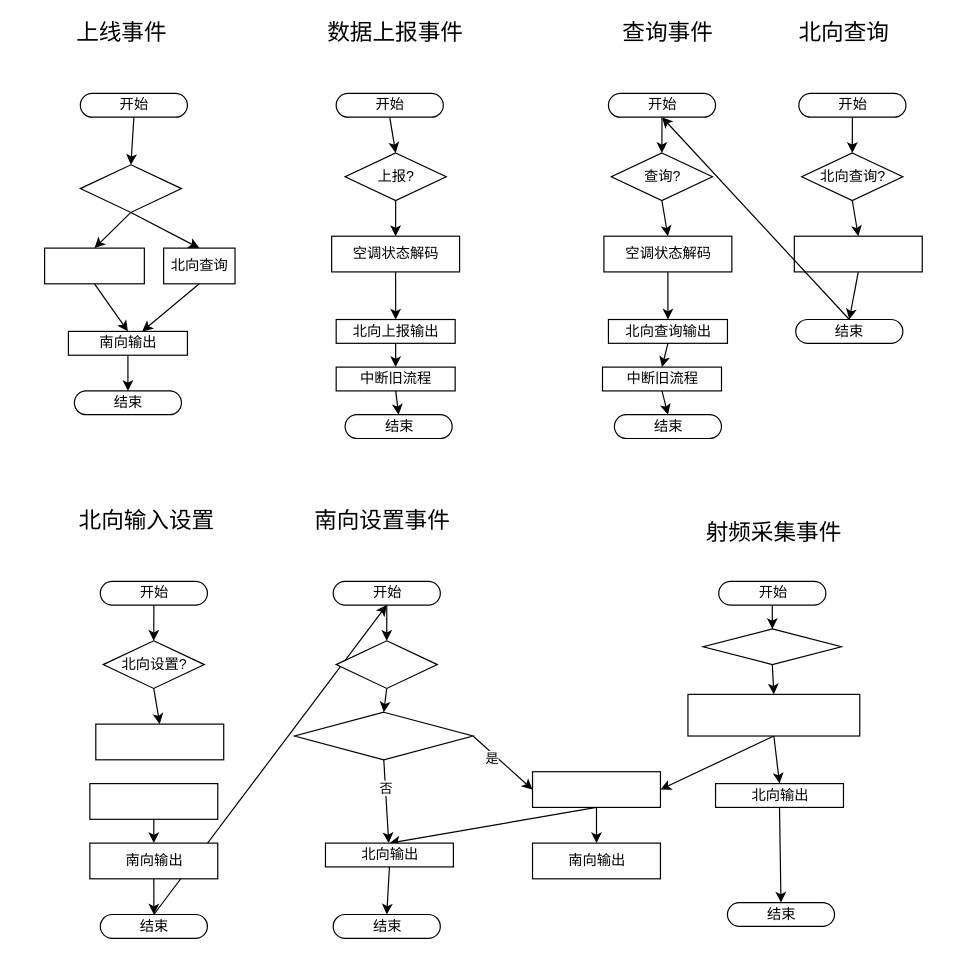
This 965x959 diagram has some shape labels left out. Here are the shapes that lost their labels. From the top down, the box of each, then its label:
(79, 164, 181, 212): 上线或启动?
(43, 247, 144, 284): 配置定时上报
(793, 235, 922, 272): 状态寄存器请求
(335, 640, 437, 688): 设置?
(702, 628, 841, 665): 采集?
(687, 693, 860, 736): 射频解码，更新数据位
(95, 723, 224, 760): 状态数据位设置
(293, 711, 473, 760): 是否sid(用户发起)?
(89, 782, 218, 819): 状态射频码编码
(531, 771, 660, 807): 保存状态寄存器
